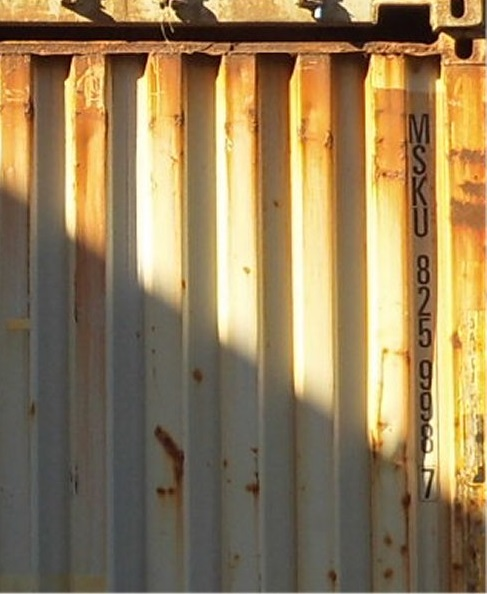container_no_door: (5, 34, 482, 589)
